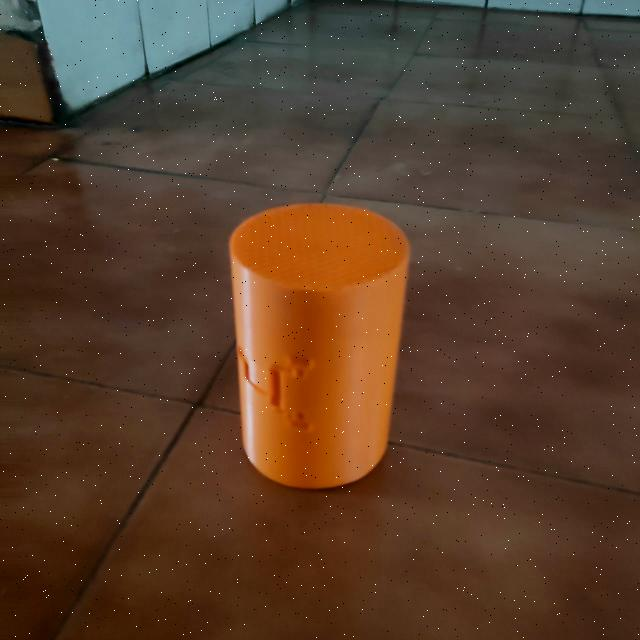Cylinder: (227, 202, 411, 489)
